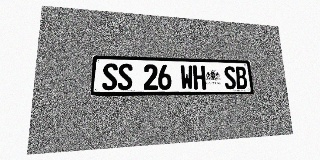2: (144, 64, 158, 90)
6: (158, 64, 172, 90)
B: (235, 66, 248, 89)
H: (193, 65, 206, 89)
S: (102, 63, 118, 90), (118, 63, 133, 90), (224, 66, 237, 89)
W: (180, 65, 194, 90)
